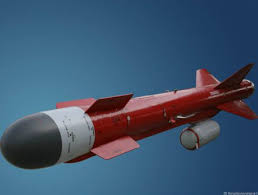ten_lua: (8, 75, 258, 171)
